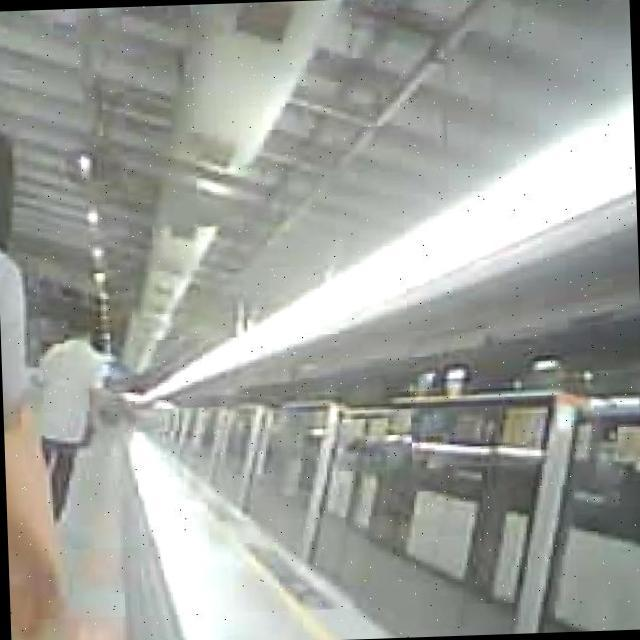person: (0, 142, 69, 640), (30, 320, 112, 526)
